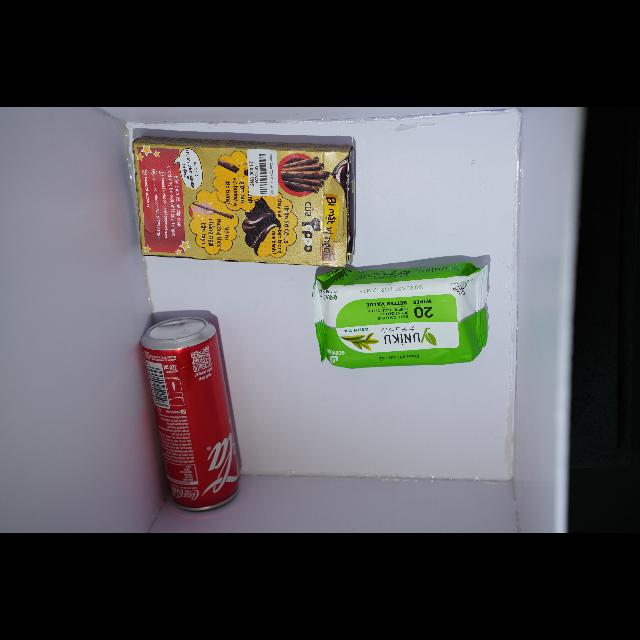banh_toppo_socola: (130, 137, 354, 266)
coca_cola: (141, 317, 240, 511)
khan_giay: (313, 262, 489, 368)
